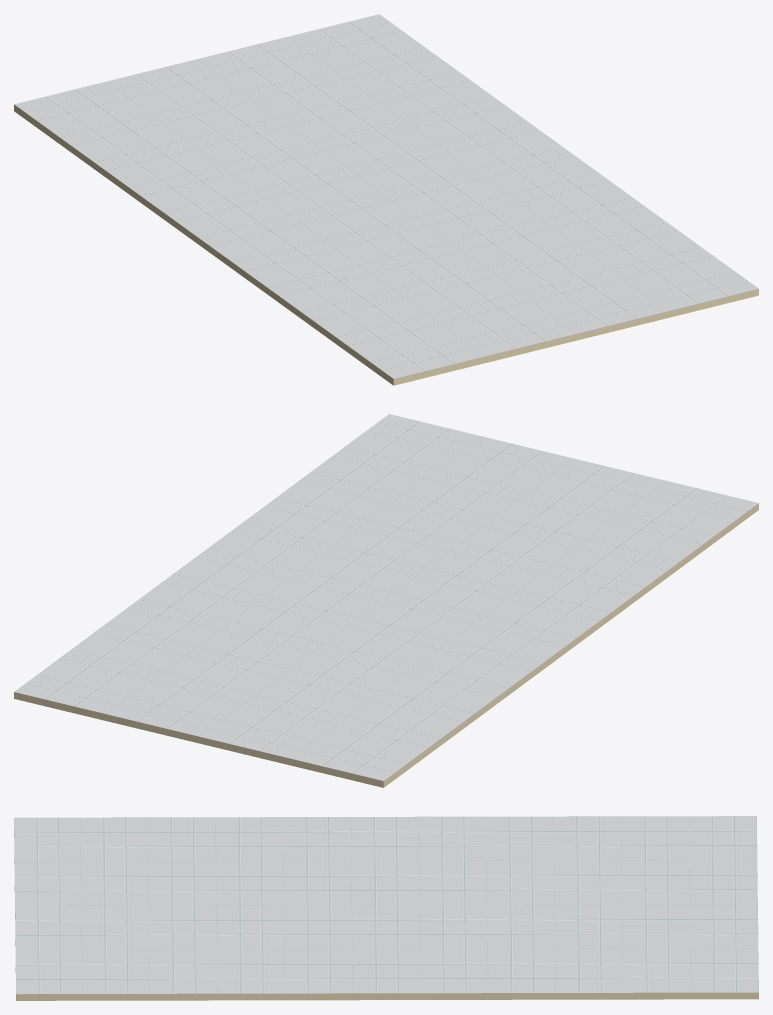
The model's file is BathroomFloor.fbx.
3 views of the same model, one above another, from view 1: azimuth 30°, elevation 25°; view 2: azimuth 150°, elevation 25°; view 3: azimuth 270°, elevation 25° (orthographic).
Parts seen in each view (by area): view 1: Bathroom Floor; view 2: Bathroom Floor; view 3: Bathroom Floor.
Part boxes in pixels (x1,y1,x2,y2): Bathroom Floor: (14, 14, 758, 385); Bathroom Floor: (14, 414, 758, 787); Bathroom Floor: (14, 816, 758, 1000).
Bounding box in the file's own units: 1379 × 24.31 × 2437.
